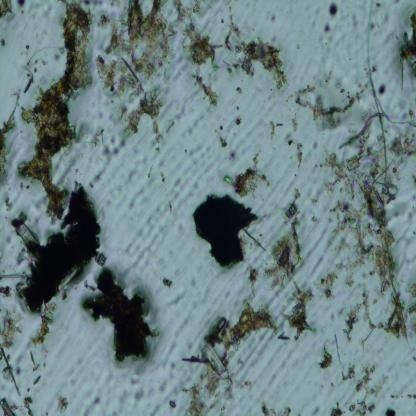Background material: (290, 85, 416, 339), (17, 0, 94, 218), (95, 0, 180, 143), (12, 183, 99, 312), (181, 304, 275, 415), (78, 266, 158, 368), (249, 191, 302, 300), (225, 15, 289, 92), (178, 7, 221, 113), (294, 78, 369, 128), (222, 150, 274, 197), (359, 3, 384, 95), (282, 280, 320, 340), (342, 358, 392, 401), (345, 286, 377, 350), (0, 94, 20, 191), (392, 6, 416, 84), (122, 216, 155, 266), (152, 171, 184, 216), (329, 400, 398, 415), (30, 303, 54, 344), (17, 55, 45, 90), (99, 130, 126, 166), (0, 309, 25, 347), (320, 1, 339, 39), (121, 373, 144, 403), (187, 142, 210, 170), (164, 283, 190, 307), (260, 398, 293, 416), (86, 386, 106, 414), (155, 364, 174, 393), (265, 116, 284, 144), (161, 339, 179, 368), (320, 268, 336, 300), (132, 182, 148, 214), (287, 139, 304, 167), (318, 345, 335, 371), (305, 185, 325, 206), (185, 115, 201, 140), (315, 46, 332, 69), (84, 168, 101, 189), (0, 396, 17, 416), (312, 251, 326, 274), (306, 210, 323, 228), (39, 4, 52, 26), (0, 1, 15, 20), (53, 396, 70, 412), (350, 10, 362, 32), (94, 252, 108, 267), (0, 284, 12, 301), (366, 13, 378, 30), (30, 350, 40, 370), (159, 277, 172, 292), (24, 396, 34, 414), (168, 396, 179, 410), (217, 136, 228, 150), (378, 83, 388, 96), (328, 380, 338, 392), (32, 374, 41, 387), (15, 0, 27, 8), (234, 118, 242, 129), (406, 392, 416, 400), (409, 354, 416, 363), (0, 38, 6, 48)
Fragment: (192, 193, 257, 267)
Glass filter fibre: (0, 350, 21, 396)
